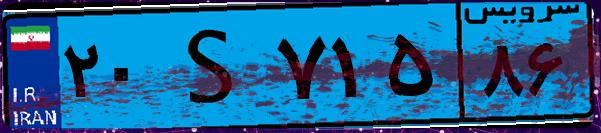0: (110, 28, 158, 98)
1: (330, 28, 385, 110)
2: (57, 26, 110, 100)
5: (385, 28, 445, 110)
6: (525, 38, 570, 115)
7: (270, 28, 330, 110)
8: (475, 38, 525, 113)
S: (158, 12, 270, 120)
